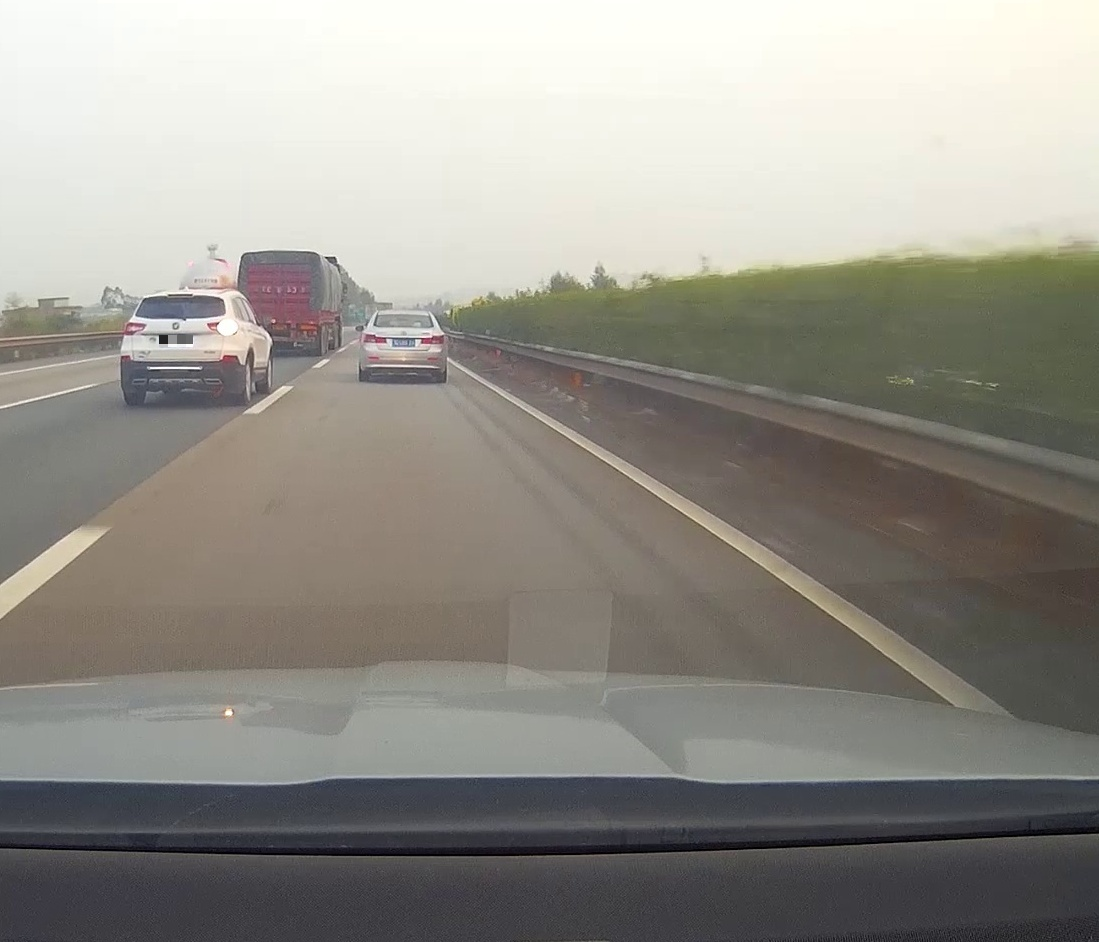L_light: (123, 322, 146, 336), (363, 334, 387, 344)
R_light: (207, 319, 238, 335), (421, 335, 444, 345)
T_light: (167, 293, 194, 298), (398, 313, 410, 316)
day-no: (358, 311, 447, 382)
day-right: (119, 291, 248, 406)
plate_1: (159, 335, 193, 347)
